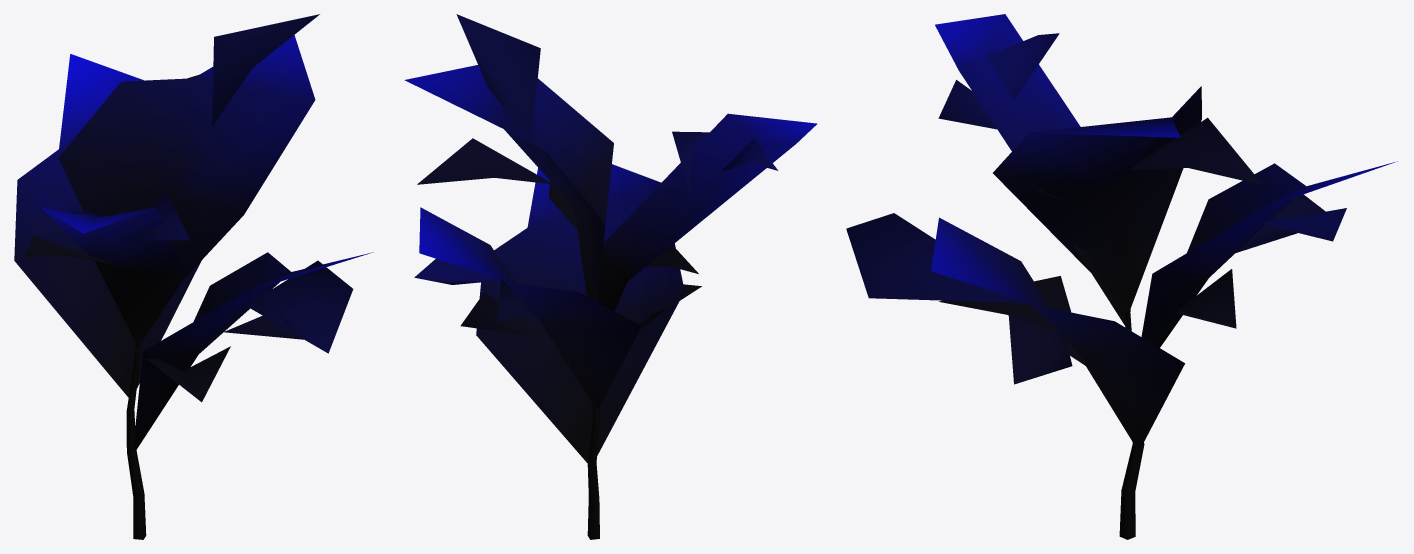
File: SM_EuropeanBeech_04.fbx
The picture shows the model from 3 angles, left to right: view 1: azimuth 30°, elevation 25°; view 2: azimuth 150°, elevation 25°; view 3: azimuth 270°, elevation 25°; orthographic projection. The views are drawn at different scales.
Parts seen in each view (by area): view 1: SM_EuropeanBeech_04; view 2: SM_EuropeanBeech_04; view 3: SM_EuropeanBeech_04.
Boxes of the visible parts, left/top/right/bottom form: SM_EuropeanBeech_04: left=14, top=14, right=372, bottom=539; SM_EuropeanBeech_04: left=404, top=14, right=817, bottom=539; SM_EuropeanBeech_04: left=846, top=14, right=1397, bottom=539.
Bounding box in the file's own units: 62.16 × 83.79 × 89.3.
